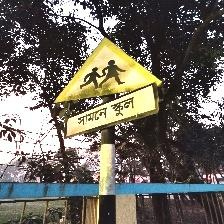School-in-front: (54, 36, 162, 139)
